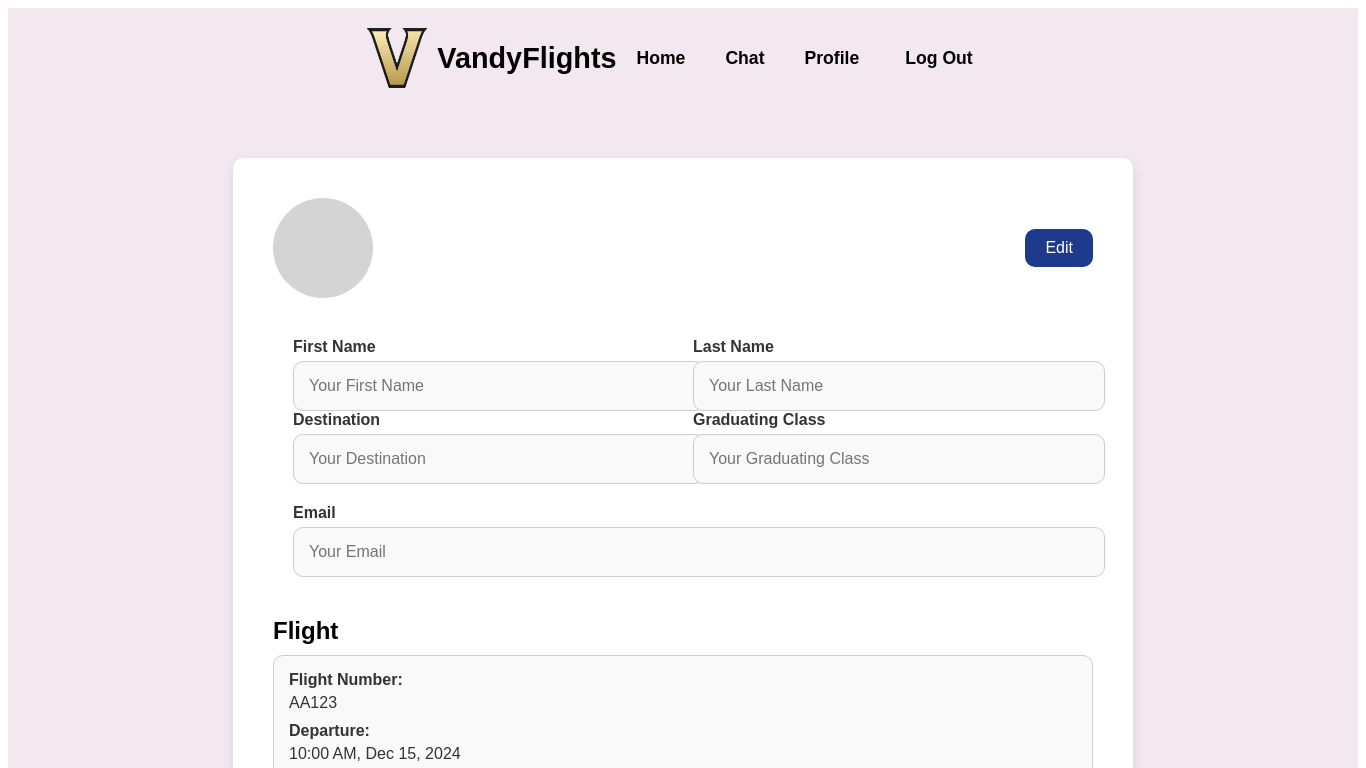
EditProfile › switches to edit mode when Edit button is clicked
Click the button "Edit" at [1059, 248], box [1025,229,1093,267]
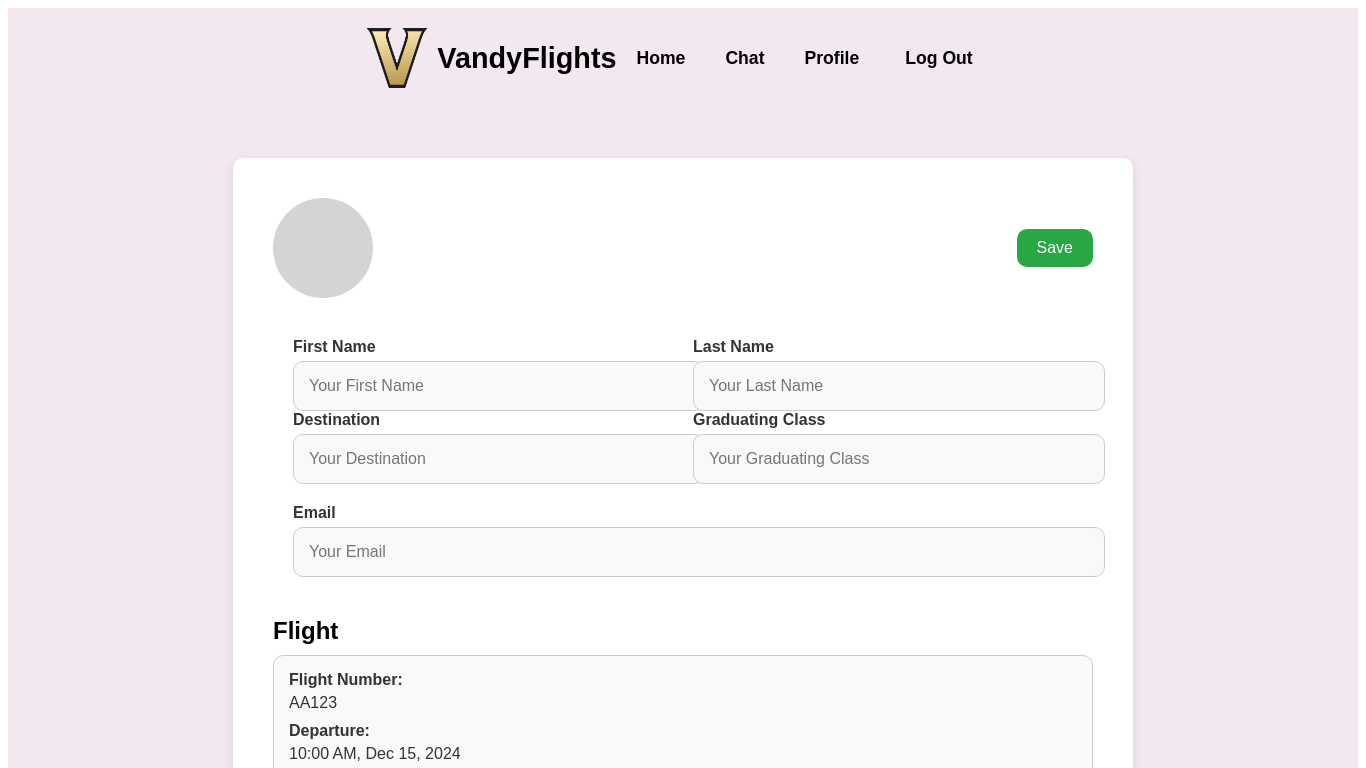
Result: the button "Save" is shown at [1016,229,1093,267]
